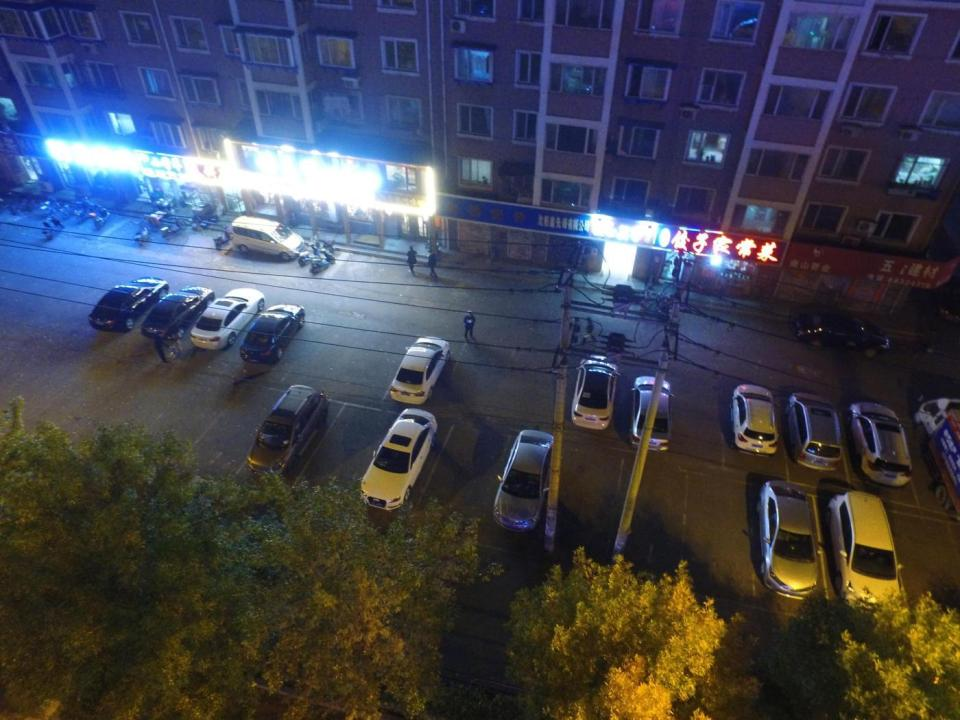car: (830, 495, 901, 614), (360, 409, 438, 510), (754, 480, 818, 597), (494, 427, 558, 536), (848, 402, 914, 492), (793, 309, 891, 359), (190, 286, 264, 350), (89, 275, 169, 331), (787, 394, 841, 472), (386, 338, 448, 402), (241, 302, 303, 366), (142, 286, 214, 340), (570, 354, 618, 432), (733, 386, 779, 458), (631, 374, 670, 452)
truck: (917, 396, 960, 524)
van: (246, 384, 325, 480), (232, 215, 306, 261)
